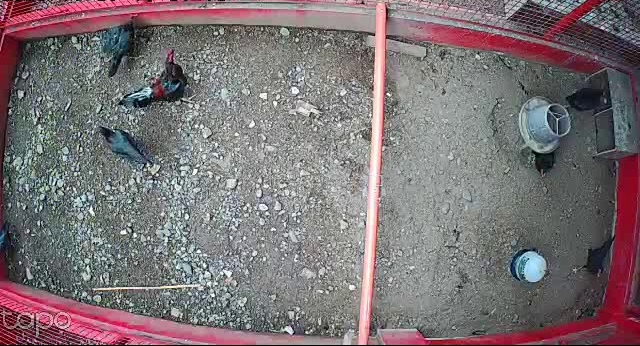Chicken: (94, 122, 155, 167), (105, 13, 143, 78), (568, 235, 617, 280), (528, 142, 561, 180), (563, 85, 609, 112)
Drinker: (510, 249, 548, 283)
Feeder: (519, 94, 571, 155)
Rooster: (120, 47, 196, 114)
